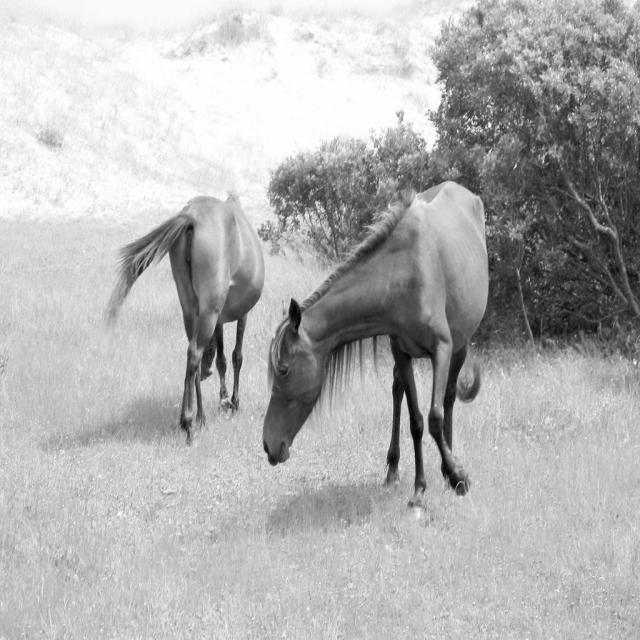Horse: (262, 180, 490, 519), (107, 188, 266, 442)
